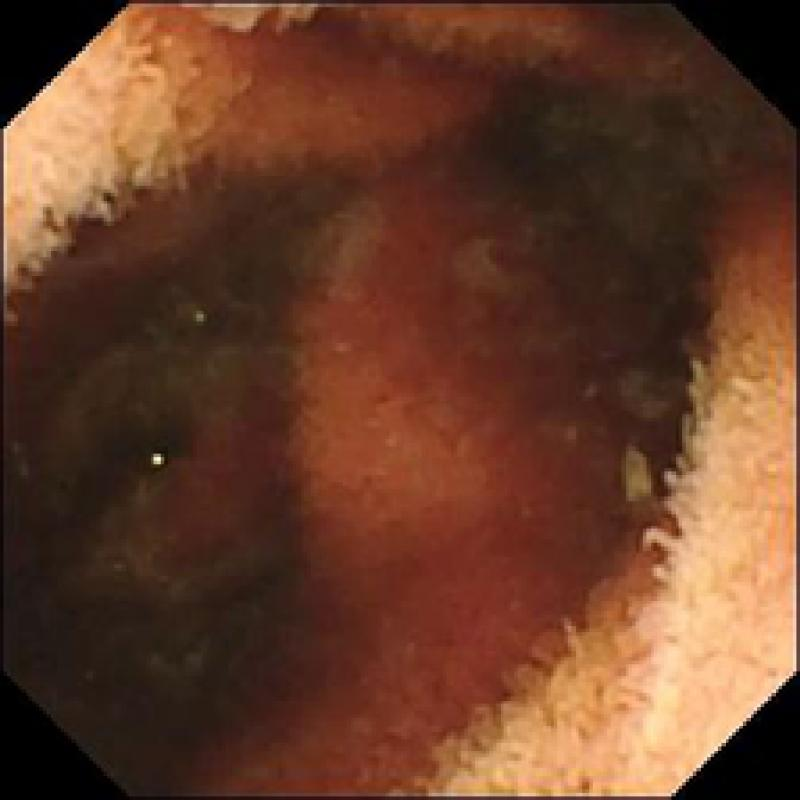bleeding: (136, 436, 275, 539)
